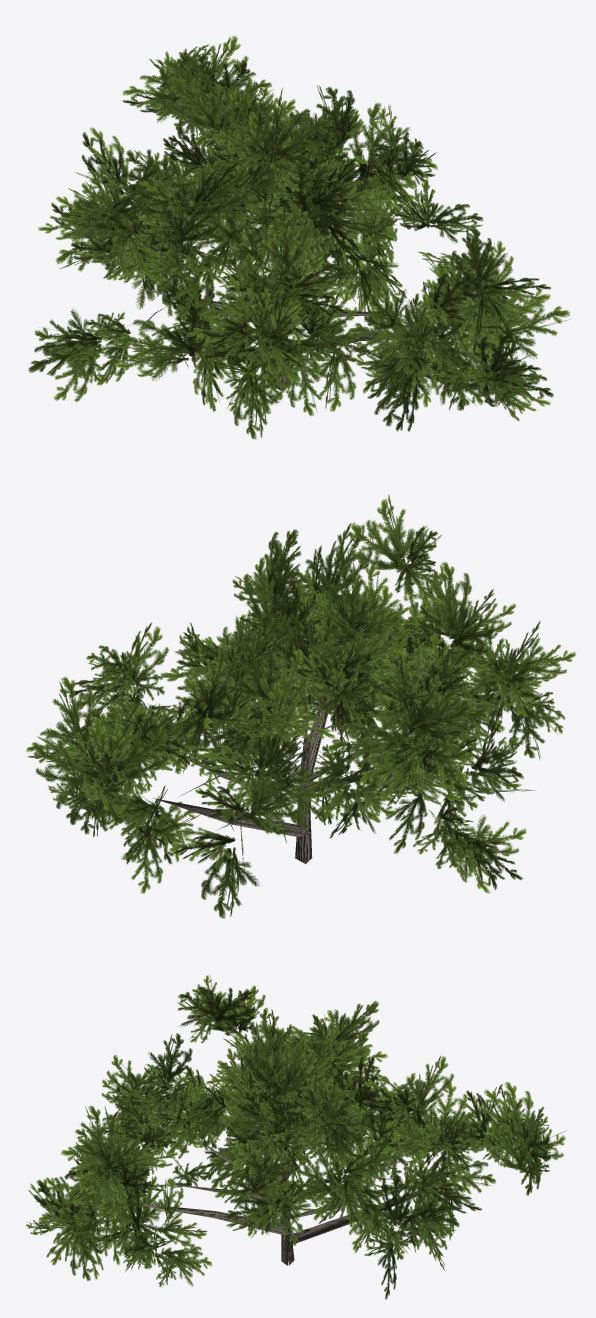
File: arbusto_3.glb
3 renders of one model, top to bottom at view 1: azimuth 30°, elevation 25°; view 2: azimuth 150°, elevation 25°; view 3: azimuth 270°, elevation 25°, orthographic. The views are drawn at different scales.
Parts seen in each view (by area): view 1: arbusto_3_hojas, arbusto_3_ramas; view 2: arbusto_3_hojas, arbusto_3_ramas; view 3: arbusto_3_hojas, arbusto_3_ramas.
Part boxes in pixels (<box>): arbusto_3_hojas: <box>28,35,570,439</box>; arbusto_3_ramas: <box>117,177,477,390</box>; arbusto_3_hojas: <box>26,494,575,918</box>; arbusto_3_ramas: <box>141,669,448,863</box>; arbusto_3_hojas: <box>26,975,565,1299</box>; arbusto_3_ramas: <box>99,1128,457,1265</box>.
Size of the model in its own units: 2.52 by 1.85 by 3.34.
2 materials, 2 textured.
